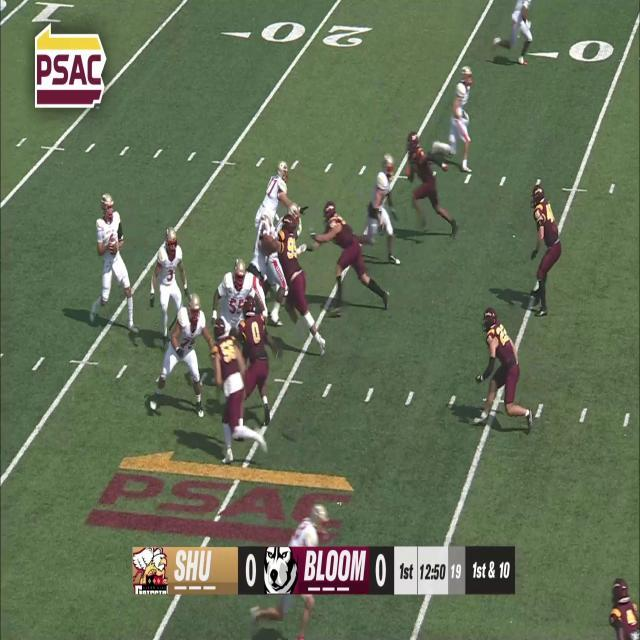football: (108, 237, 119, 256)
